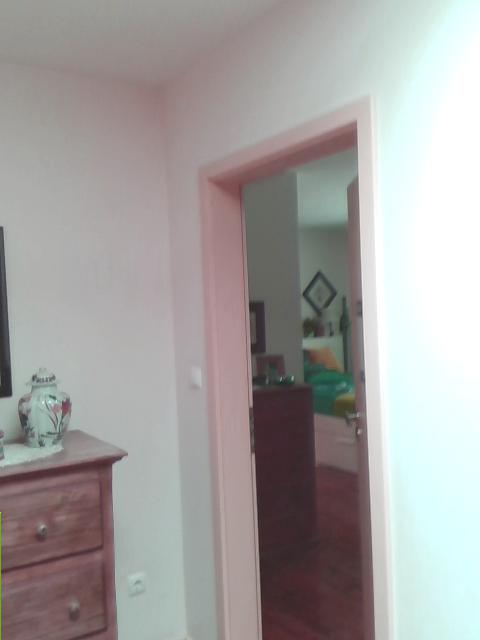semi_door: (197, 92, 397, 639)
